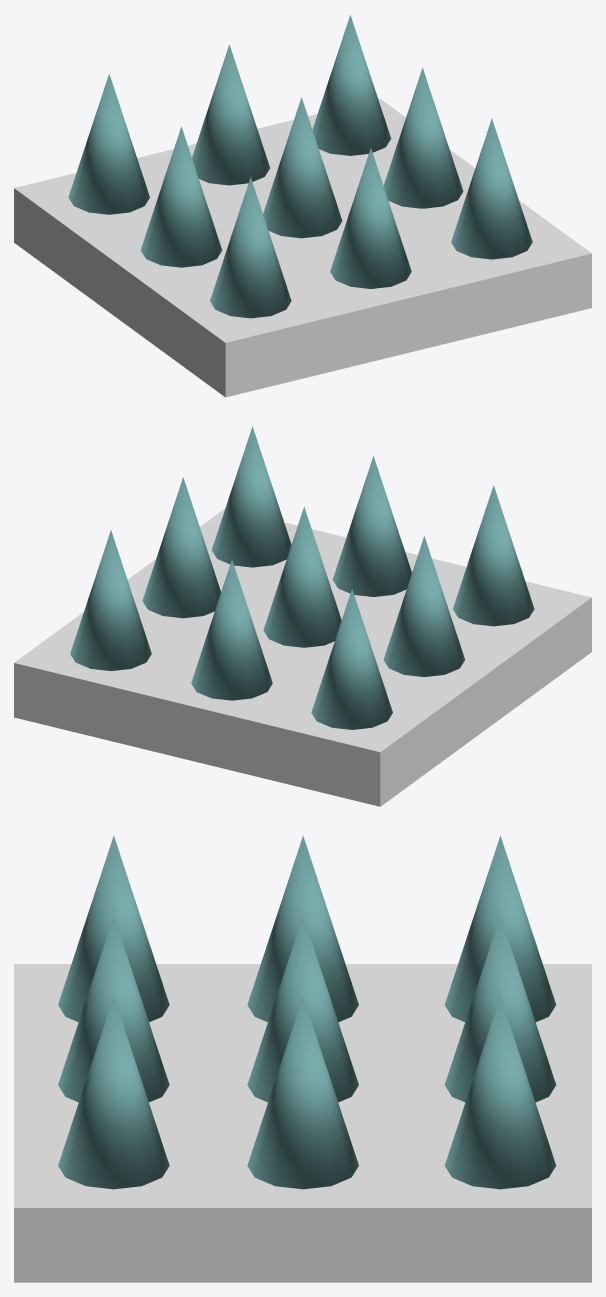
File: nail.fbx
3 views of the same model, one above another, from view 1: azimuth 30°, elevation 25°; view 2: azimuth 150°, elevation 25°; view 3: azimuth 270°, elevation 25° (orthographic). The views are drawn at different scales.
Visible parts, largest first — view 1: Base, Nail; view 2: Base, Nail; view 3: Base, Nail.
Part boxes in pixels (x1,y1,x2,y2): Base: [14, 98, 591, 397]; Nail: [68, 15, 532, 318]; Base: [14, 508, 591, 806]; Nail: [70, 426, 534, 729]; Base: [14, 964, 591, 1282]; Nail: [58, 835, 556, 1189].
Size of the model in its own units: 7853 by 3661 by 7853.
